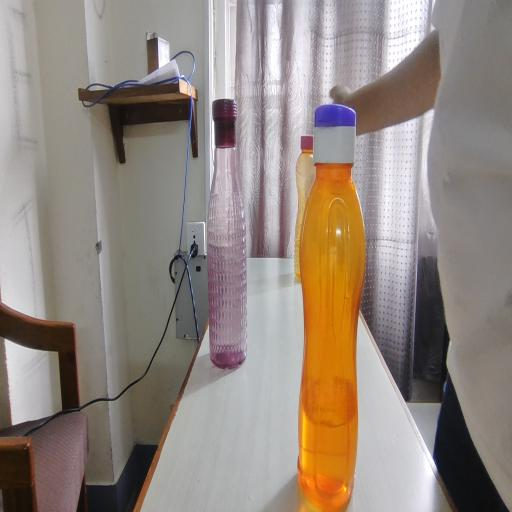Bottle: (294, 95, 369, 512), (204, 100, 256, 373), (294, 124, 315, 298)
